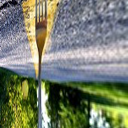fork: (26, 1, 59, 128)
